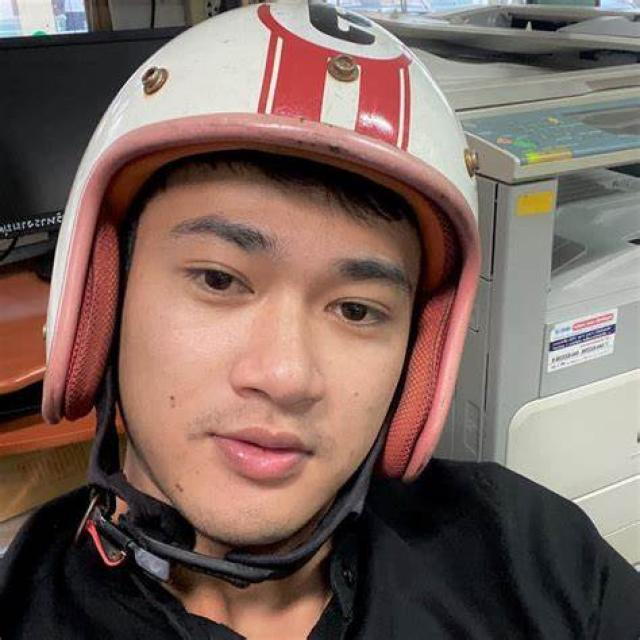helmet: (35, 1, 493, 592)
